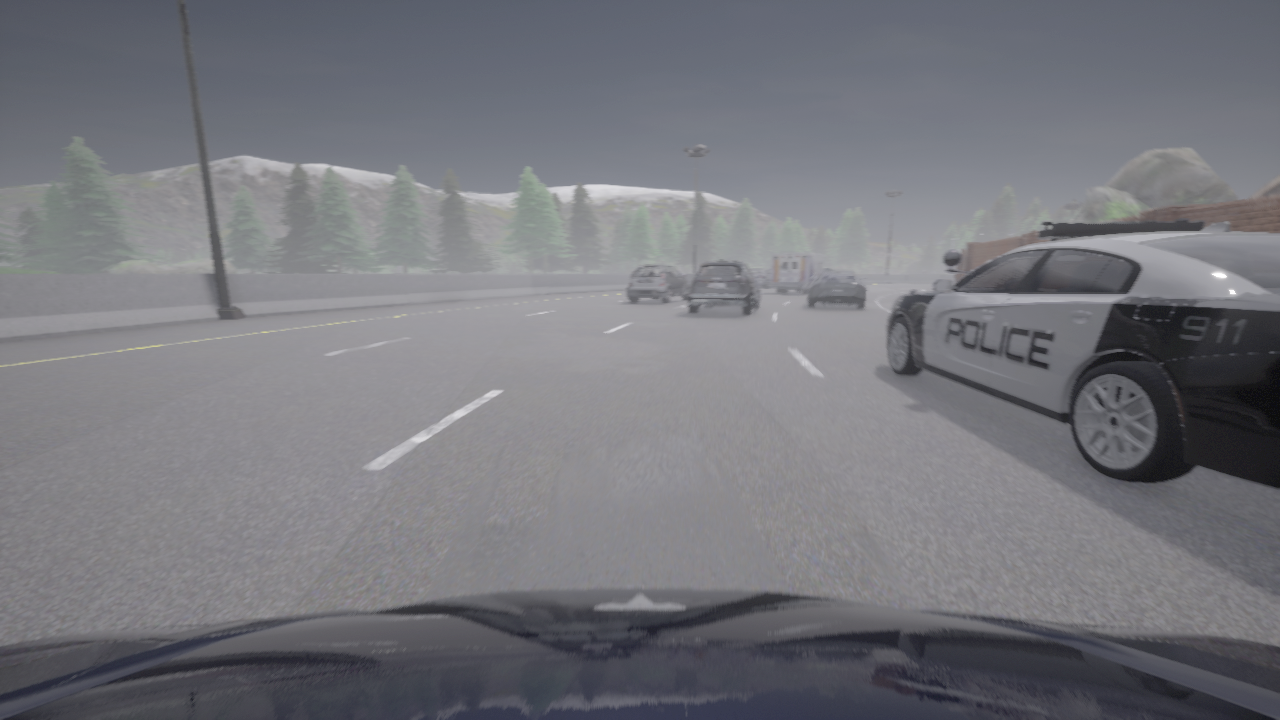cyclist: (0, 588, 1279, 719), (887, 219, 1279, 488), (686, 259, 759, 314), (769, 253, 829, 293), (627, 264, 688, 303), (807, 270, 866, 308), (750, 269, 770, 287)
